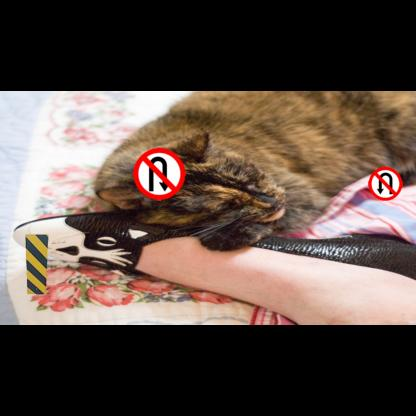O-MP: (25, 235, 48, 294)
R-5a: (368, 167, 402, 200)
